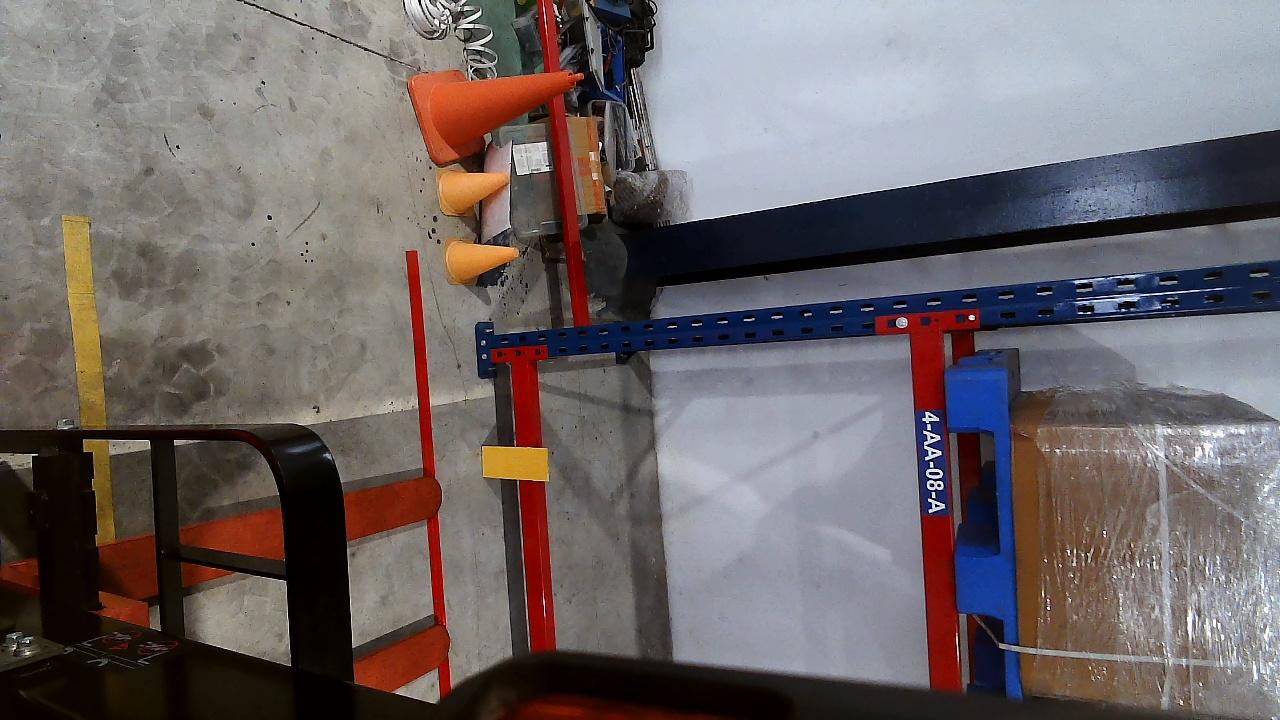h_rack: (908, 327, 963, 689), (508, 358, 556, 651)
orange_strip: (482, 446, 550, 480)
red_line: (405, 252, 445, 656)
small_pallet: (948, 366, 1014, 688)
yellow_line: (60, 214, 106, 426)
